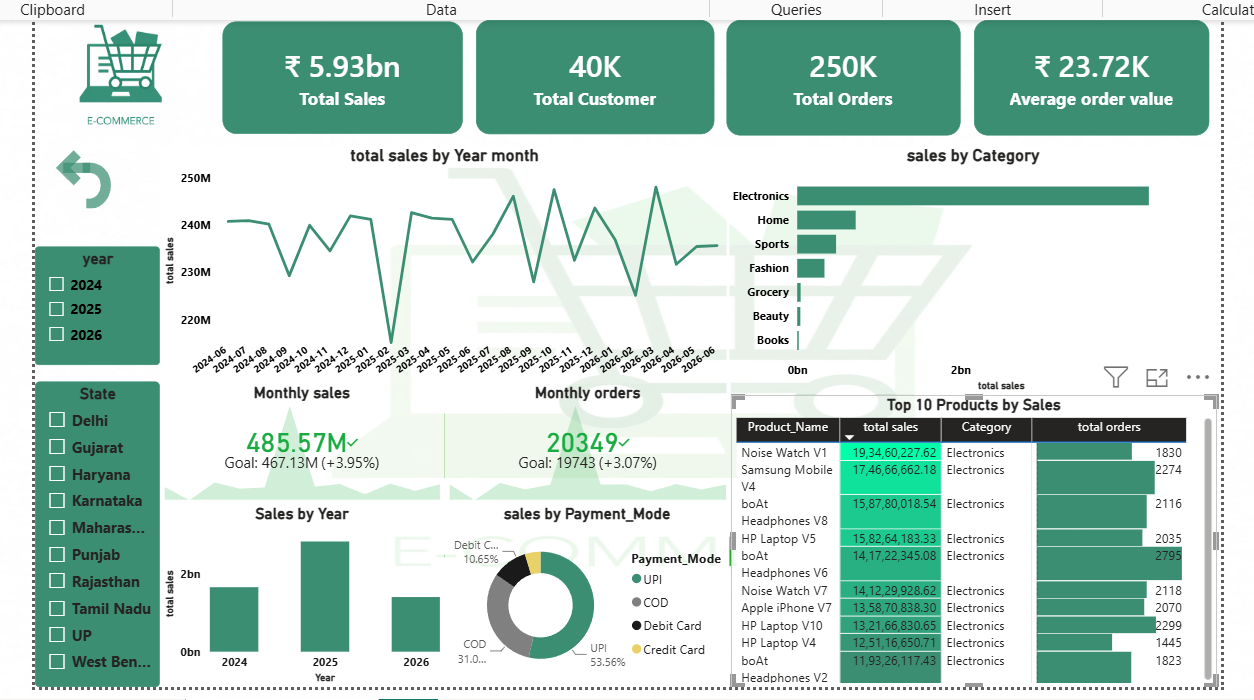

What the dashboard file says about the page in this screenshot:
{"tool":"powerbi","page":{"name":"main dashboard","canvas":[1280,720],"ordinal":0},"visuals":[{"type":"cardVisual","fields":{"Data":["measure table.total orders"]},"box":[747,0,252.6,124.7],"z":0},{"type":"cardVisual","fields":{"Data":["measure table.total sales"]},"box":[202.4,1.6,259.1,121.4],"z":1000},{"type":"cardVisual","fields":{"Data":["measure table.total customer"]},"box":[475.5,0,257.5,123.1],"z":2000},{"type":"cardVisual","fields":{"Data":["measure table.average order value"]},"box":[1013.6,0,254.2,124.7],"z":3000},{"type":"lineChart","fields":{"Y":["measure table.total sales"],"Category":["calender.Year month"]},"box":[134.4,136,615.3,255.8],"z":4000},{"type":"clusteredBarChart","title":" sales by Category","fields":{"Category":["products.Category"],"Y":["measure table.total sales"]},"box":[746.5,136,532.7,268.8],"z":5000},{"type":"tableEx","title":"Top 10 Products by Sales","fields":{"Values":["products.Product_Name","measure table.total sales","products.Category","measure table.total orders"]},"box":[751.3,404.8,524.6,315.7],"z":6000},{"type":"kpi","title":"Monthly sales","fields":{"TrendLine":["calender.Month"],"Goal":["measure table.previous month sales"],"Indicator":["measure table.total sales"]},"box":[134.4,391.9,307.7,131.2],"z":7000},{"type":"kpi","title":"Monthly orders","fields":{"Indicator":["measure table.total orders"],"TrendLine":["calender.Month"],"Goal":["measure table.previous month orders"]},"box":[442,391.9,309.3,131.2],"z":8000},{"type":"donutChart","title":"sales by Payment_Mode","fields":{"Category":["sales.Payment_Mode"],"Y":["measure table.total sales"]},"box":[442,523,307.7,197.5],"z":9000},{"type":"columnChart","title":" Sales by Year","fields":{"Category":["calender.Year"],"Y":["measure table.total sales"]},"box":[134.4,523,307.7,197.5],"z":10000},{"type":"slicer","title":"year","fields":{"Values":["calender.Year"]},"box":[0,244.5,134.4,127.9],"z":11000},{"type":"slicer","title":"State","fields":{"Values":["customers.State"]},"box":[0,390.2,134.4,330.3],"z":12000},{"type":"actionButton","box":[17.8,136,116.6,71.2],"z":13000},{"type":"image","box":[0,0,189.4,123.1],"z":14000}]}

Visuals, with their boxes in screenshot pixels (x1, y1, x2, y2):
cardVisual - measure table.total orders: 722,16,956,131
cardVisual - measure table.total sales: 220,18,459,130
cardVisual - measure table.total customer: 472,16,709,130
cardVisual - measure table.average order value: 968,16,1203,131
lineChart - measure table.total sales x calender.Year month: 157,142,725,378
" sales by Category" clusteredBarChart: 722,142,1214,390
"Top 10 Products by Sales" tableEx: 726,390,1211,682
"Monthly sales" kpi: 157,378,441,499
"Monthly orders" kpi: 441,378,726,499
"sales by Payment_Mode" donutChart: 441,499,725,682
" Sales by Year" columnChart: 157,499,441,682
"year" slicer: 33,242,157,360
"State" slicer: 33,377,157,682
actionButton: 49,142,157,208
image: 33,16,208,130
